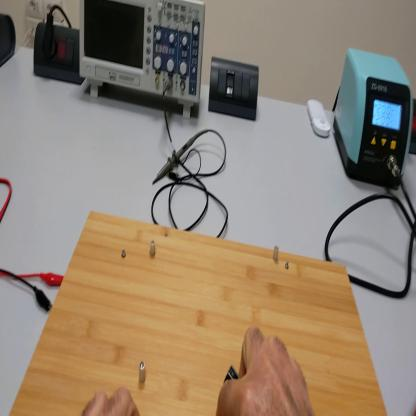hand: (218, 329, 316, 416), (84, 385, 141, 415)
high voltage board: (224, 367, 238, 382)
oscilloscope: (79, 1, 207, 123)
oscilloscope probe tip: (154, 136, 202, 188)
socket: (32, 20, 81, 85), (2, 12, 17, 68)
welder station: (337, 49, 413, 194)
working area: (12, 207, 388, 414)
